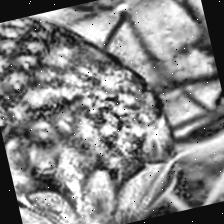Powdery Mildew Fruit: (0, 0, 199, 224)
